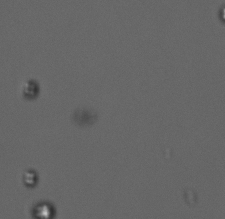Dead Cell: (20, 79, 41, 99)
Living Cell: (32, 201, 55, 217), (21, 168, 39, 187)
